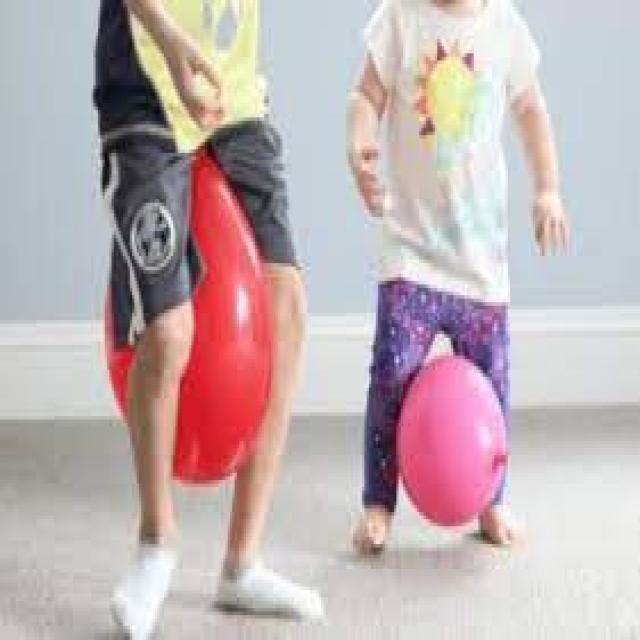balloon: (104, 152, 266, 482), (396, 354, 506, 520)
